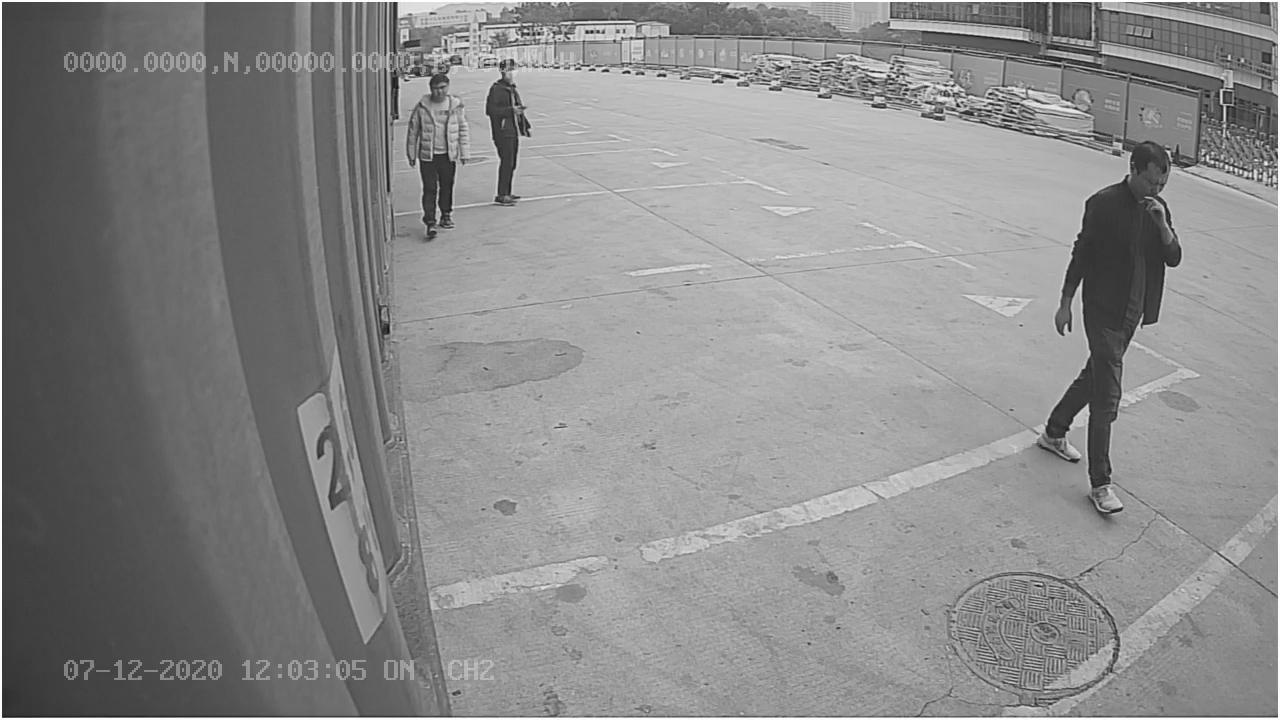person: (1036, 141, 1188, 516)
